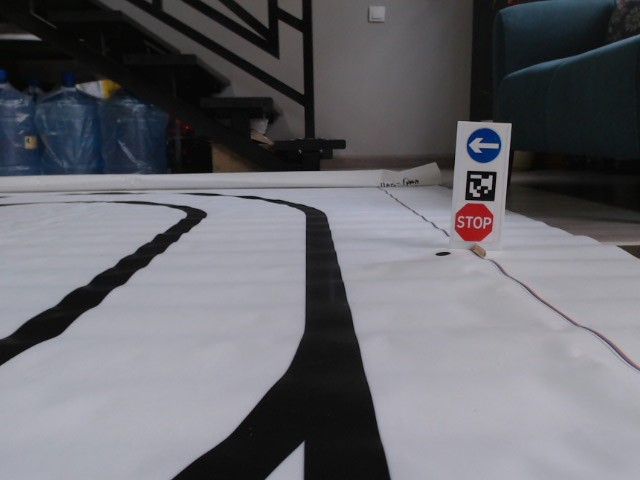Stop: (455, 202, 494, 244)
